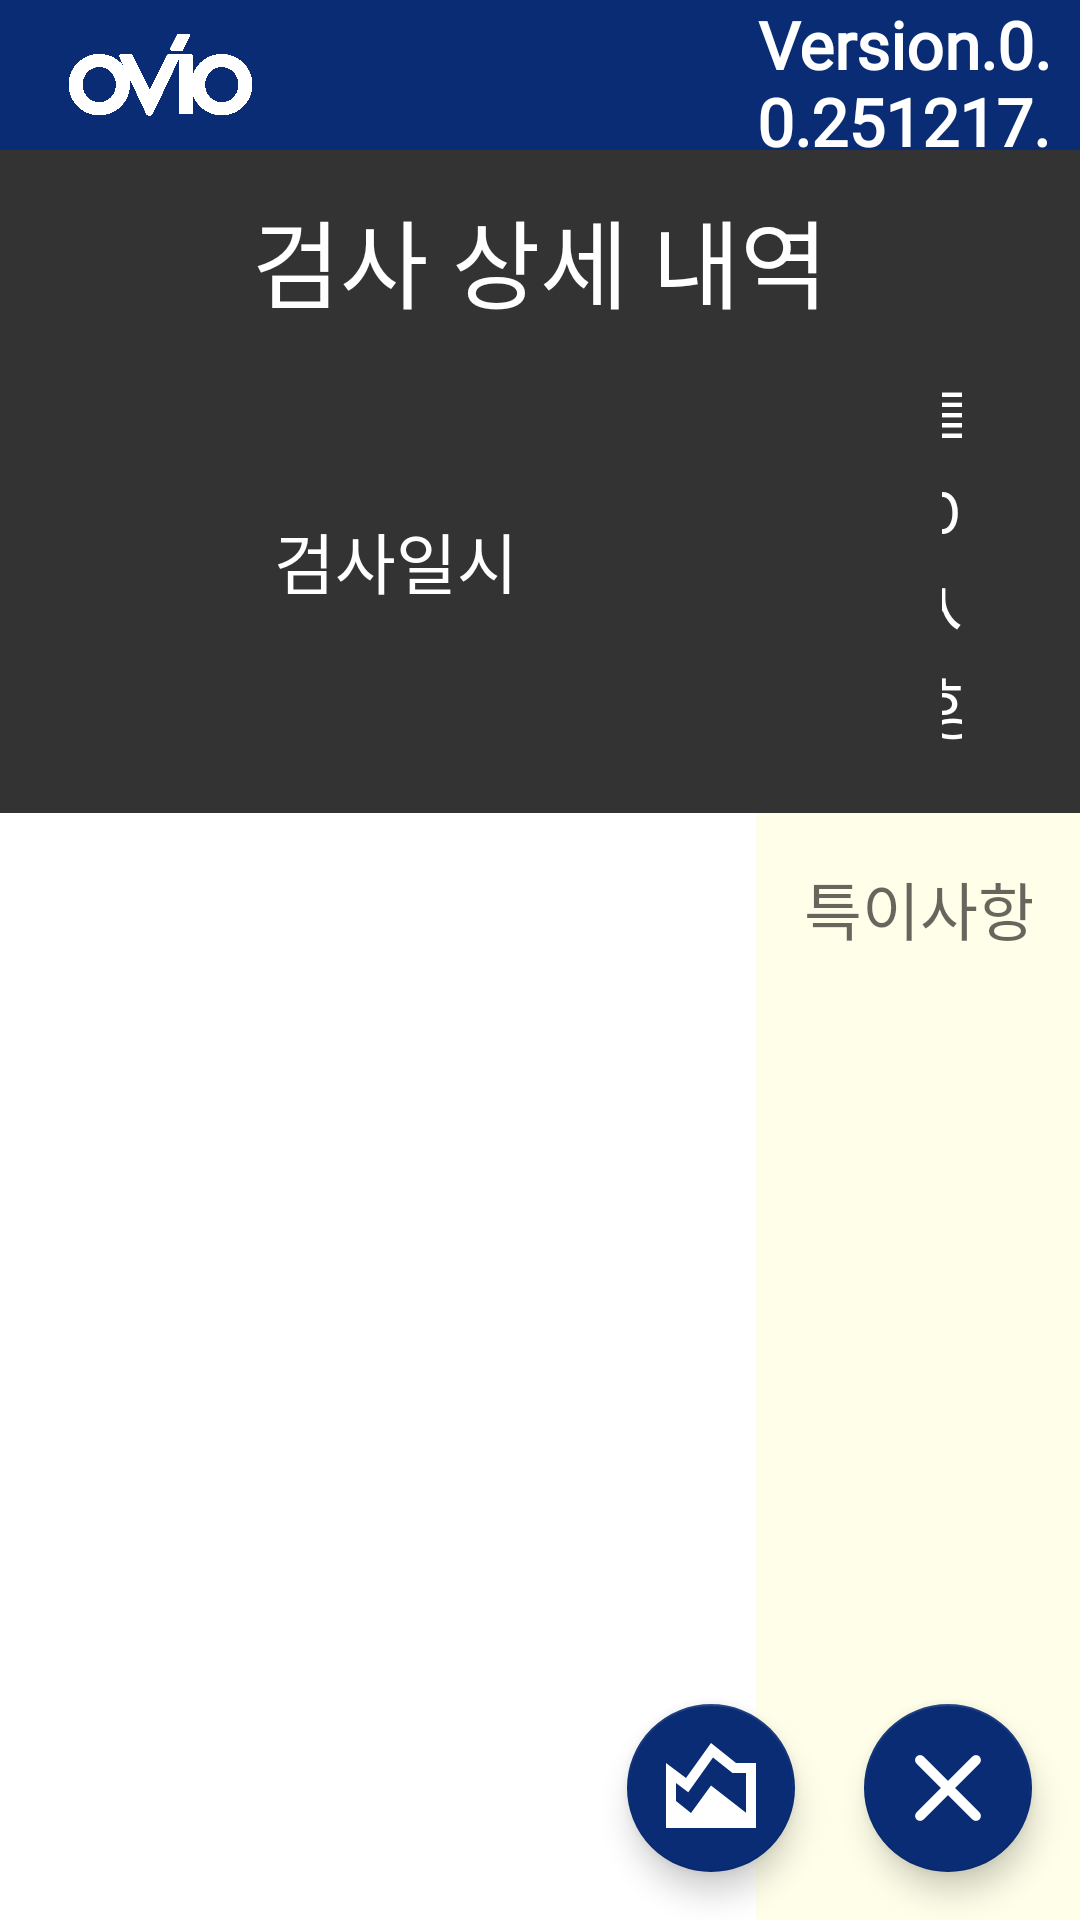

Icons on this 1080px×1920px Android screen, each with its box as (x1, y1, x2, y2):
Close Activity: (864, 1704, 1032, 1872)
